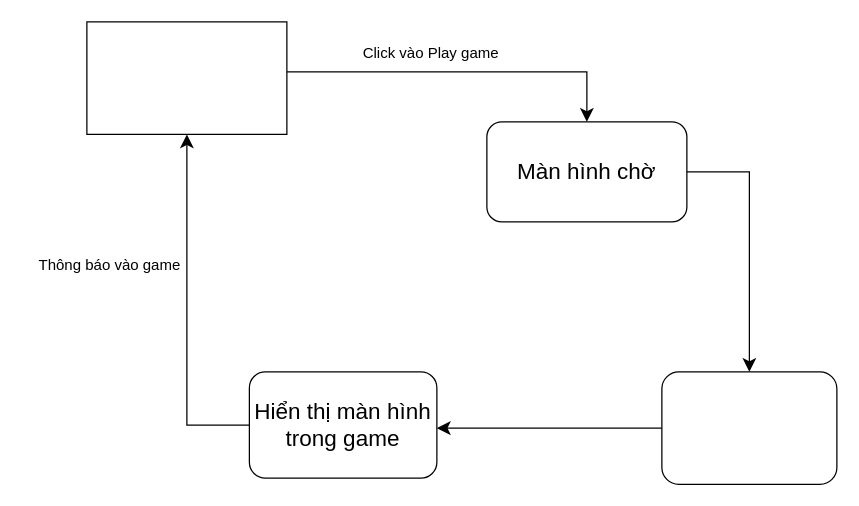
Image size: 859x506. Some labels were removed from this diagram. The shapes that lost their labels are listed below. From the top down, each one's box as (x1, y1, x2, y2) in pixels, then its label:
(86, 21, 287, 134): Người chơi
(661, 371, 837, 484): Hệ thống
